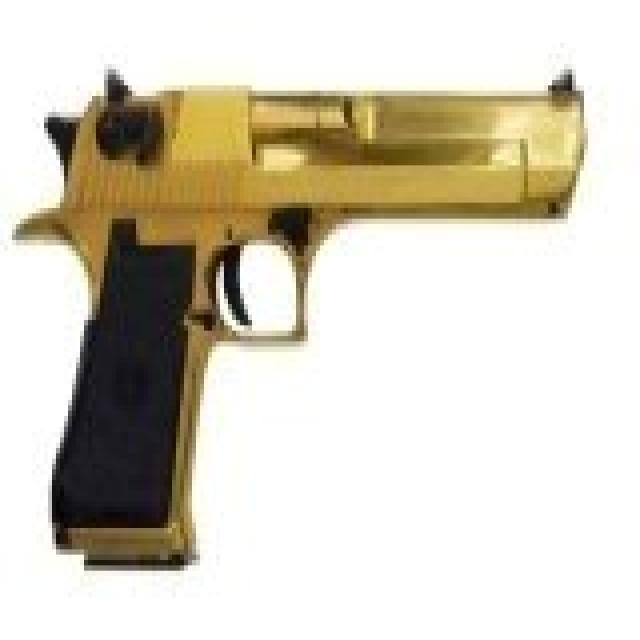Gun: (13, 49, 602, 566)
